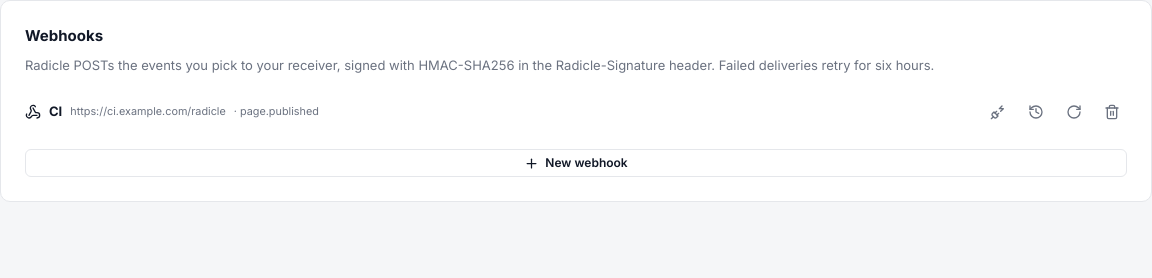
Scenario: WebhooksCard › pings a webhook and shows the delivery log with errors
The image size is (1152, 278).
Click the button named "Ping CI": (998,112) [983, 97, 1013, 127]
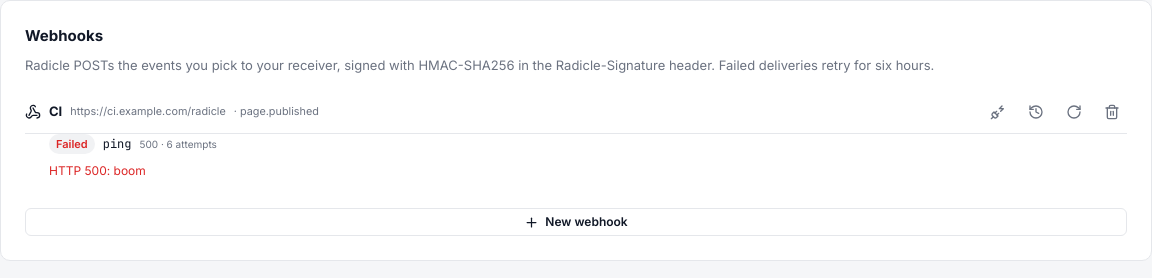
Expected: the text "HTTP 500: boom" is shown, [49, 163, 146, 178]
Expected: the text "Failed" is shown, [49, 134, 95, 154]
Expected: the text "500 · 6 attempts" is shown, [140, 136, 217, 152]
